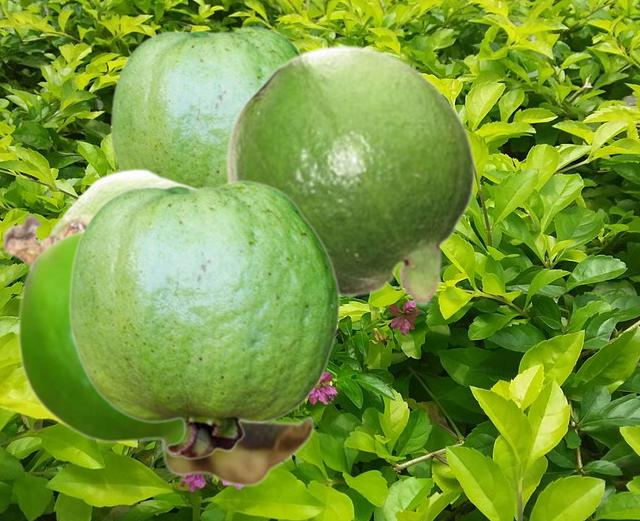guava: (16, 228, 315, 487), (68, 180, 340, 459), (224, 43, 475, 306), (110, 26, 299, 186), (1, 167, 193, 267)
